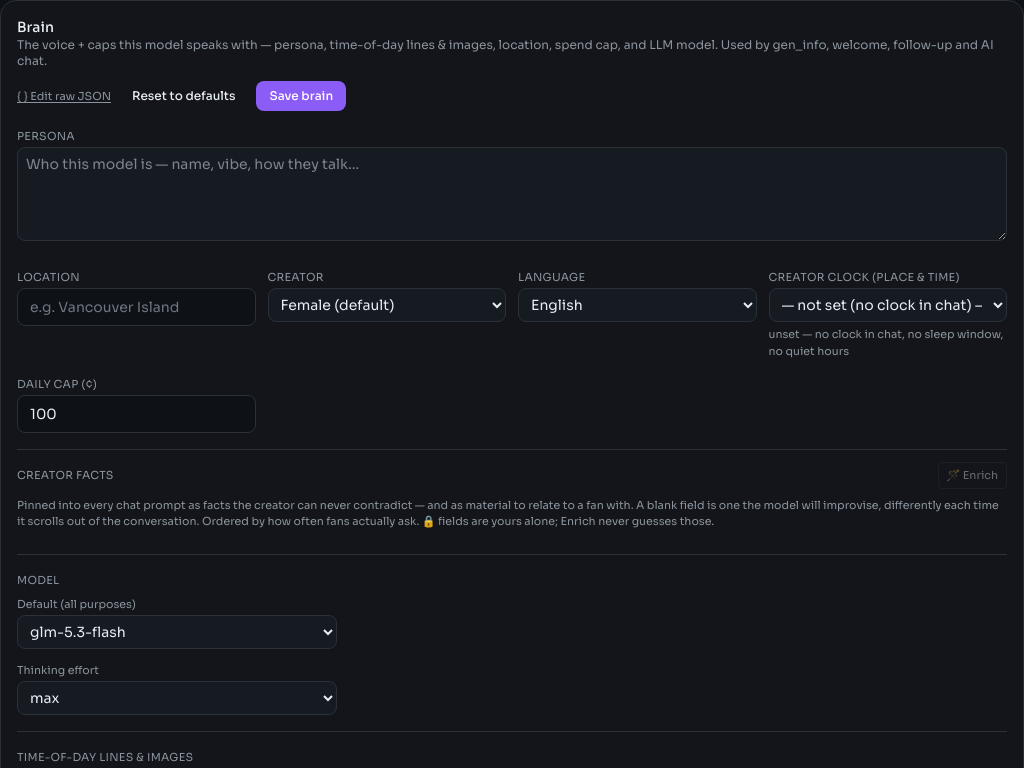
Test: the thinking-effort picker follows the MODEL › disappears when the model changes to one with no control
Check: the text "Default (all purposes)" is shown, box [17,596,136,610]
Select "glm-4.5-air" in the dropdown labelled "Default (all purposes)" at (177, 632), box [17,614,337,648]
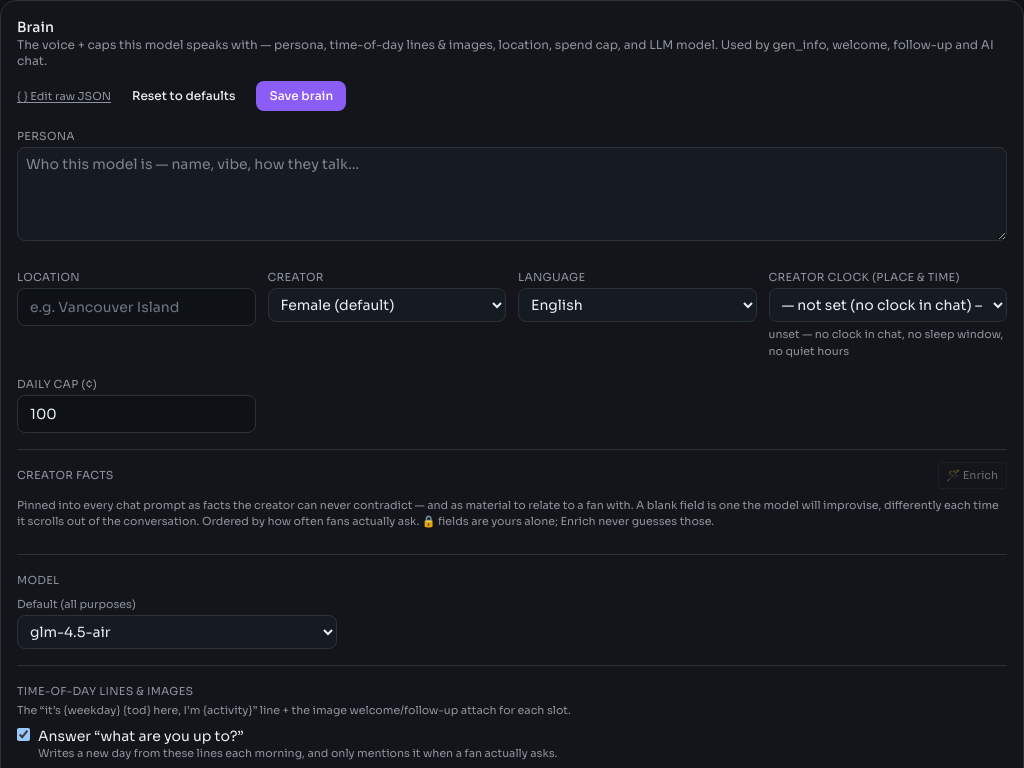
Check: the text "Thinking effort" is gone
